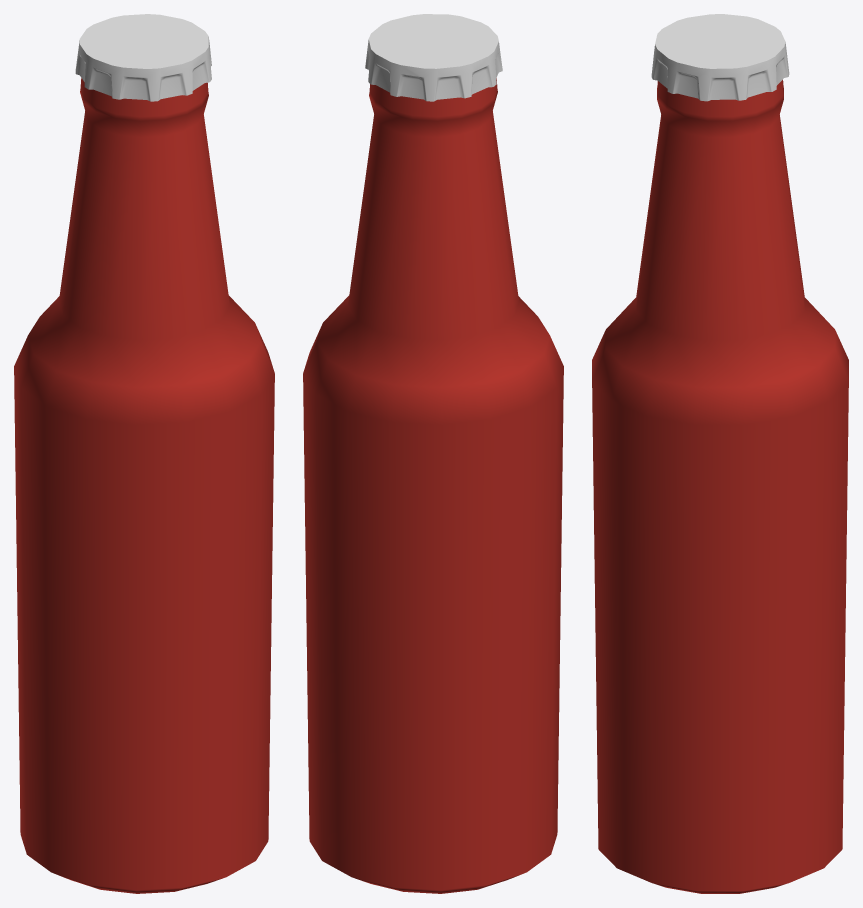
File: GarrafaVidroNova 2.fbx
3 renders of one model, left to right at view 1: azimuth 30°, elevation 25°; view 2: azimuth 150°, elevation 25°; view 3: azimuth 270°, elevation 25°, orthographic.
Parts seen in each view (by area): view 1: Cylinder_hp.001, carica_lp.001; view 2: Cylinder_hp.001, carica_lp.001; view 3: Cylinder_hp.001, carica_lp.001.
Boxes of the visible parts, x1=… form: Cylinder_hp.001: x1=14, y1=78, x2=274, y2=893; carica_lp.001: x1=75, y1=14, x2=211, y2=101; Cylinder_hp.001: x1=303, y1=78, x2=563, y2=893; carica_lp.001: x1=365, y1=14, x2=502, y2=101; Cylinder_hp.001: x1=592, y1=80, x2=848, y2=893; carica_lp.001: x1=651, y1=14, x2=789, y2=101.
Bounding box in the file's own units: 167 × 582 × 167.
